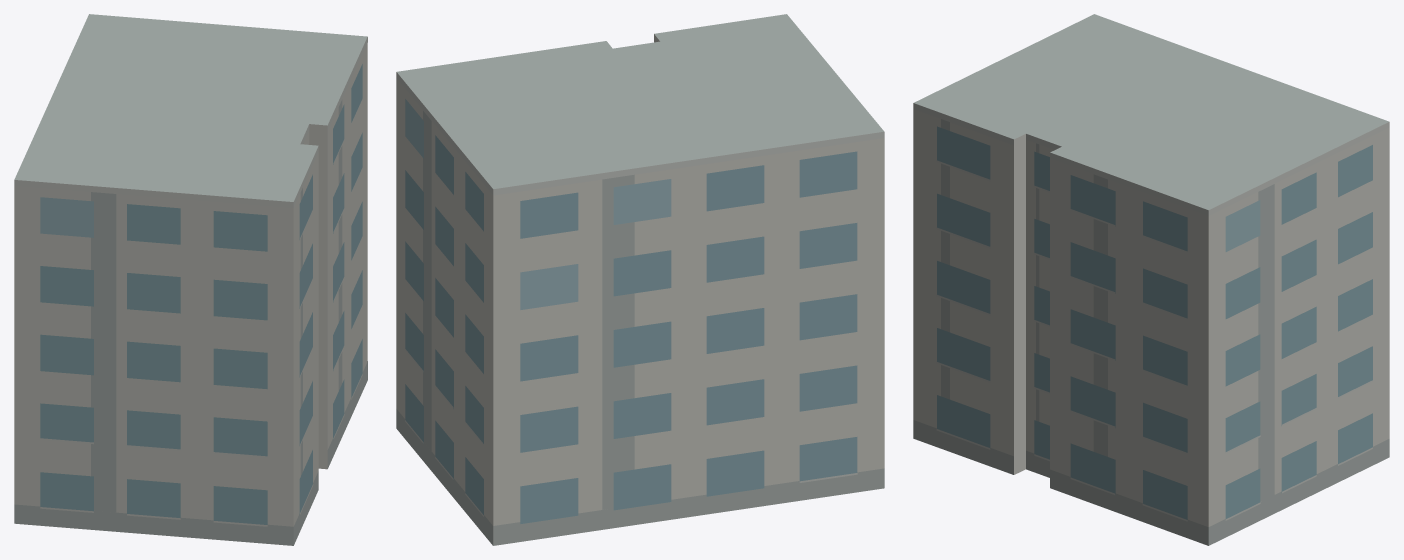
Rendered from survey-upis-32883253.glb.
3 renders of one model, left to right at view 1: azimuth 30°, elevation 25°; view 2: azimuth 150°, elevation 25°; view 3: azimuth 270°, elevation 25°, orthographic. The views are drawn at different scales.
Parts seen in each view (by area): view 1: survey-upis-32883253.tmp; view 2: survey-upis-32883253.tmp; view 3: survey-upis-32883253.tmp.
Part boxes in pixels (x1,y1,x2,y2): survey-upis-32883253.tmp: [14, 14, 367, 545]; survey-upis-32883253.tmp: [396, 14, 884, 545]; survey-upis-32883253.tmp: [913, 14, 1389, 545].
Size of the model in its own units: 17.31 by 13.8 by 17.75.
